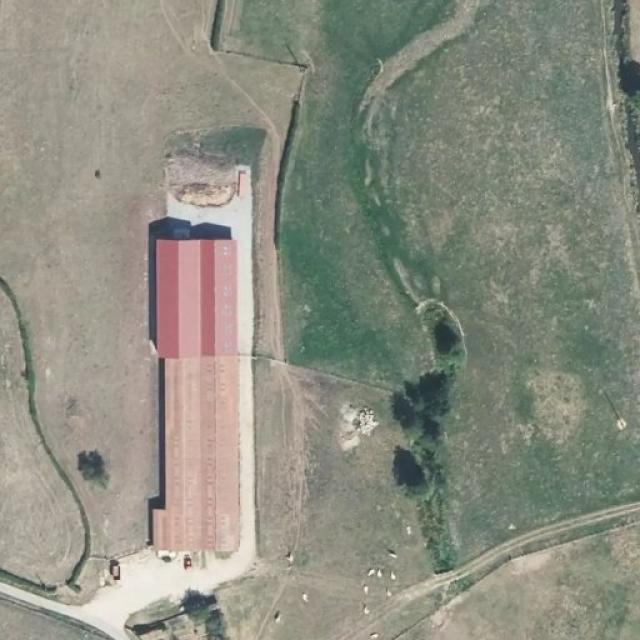ferme: (156, 358, 234, 550), (166, 234, 240, 358)
